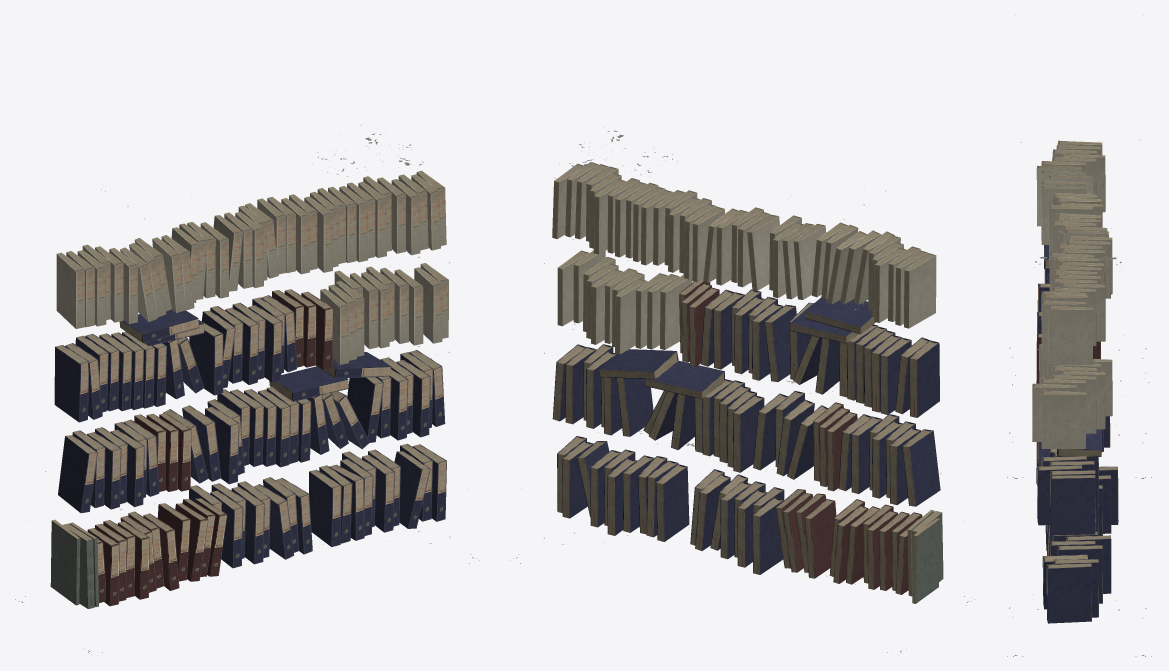
The model's file is sm39_006_bookandshelf01a.fbx.
3 views of the same model, side by side, from view 1: azimuth 30°, elevation 25°; view 2: azimuth 150°, elevation 25°; view 3: azimuth 270°, elevation 25° (orthographic). The views are drawn at different scales.
Parts seen in each view (by area): view 1: LOD_1_Group_0_Sub_1__sm36_007_PaperWork01A_A_Mat; view 2: LOD_1_Group_0_Sub_1__sm36_007_PaperWork01A_A_Mat; view 3: LOD_1_Group_0_Sub_1__sm36_007_PaperWork01A_A_Mat, LOD_1_Group_0_Sub_2__sm30_049_IronShelf01B_Mat.
Boxes of the visible parts, x1=… form: LOD_1_Group_0_Sub_1__sm36_007_PaperWork01A_A_Mat: x1=50, y1=170, x2=448, y2=608; LOD_1_Group_0_Sub_1__sm36_007_PaperWork01A_A_Mat: x1=552, y1=162, x2=943, y2=603; LOD_1_Group_0_Sub_1__sm36_007_PaperWork01A_A_Mat: x1=1032, y1=140, x2=1118, y2=623; LOD_1_Group_0_Sub_2__sm30_049_IronShelf01B_Mat: x1=1007, y1=15, x2=1151, y2=656.
Size of the model in its own units: 2.23 by 2.7 by 0.7922.
